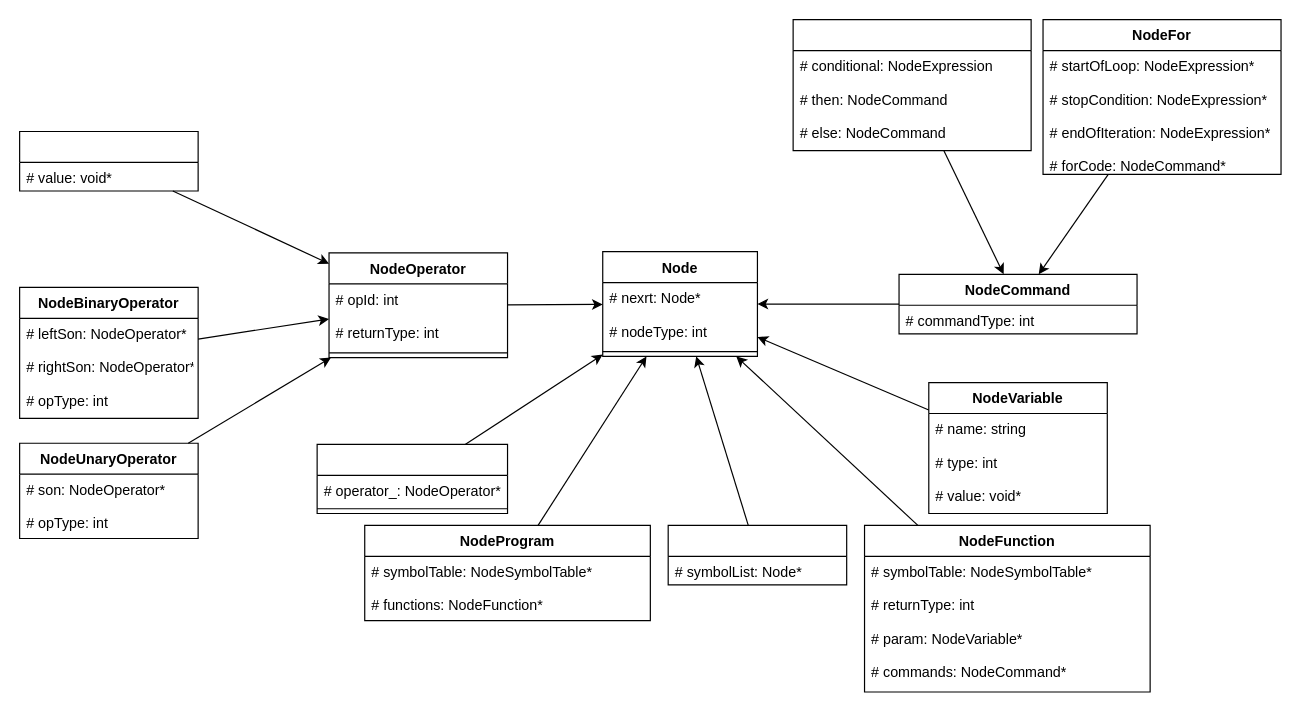
The diagram is 1301 pixels wide and 712 high, and some of its shapes have lost their labels. The box of each missing label's shape, as (x1, y1, x2, y2) in pixels:
NodeExpreesion: (316, 443, 508, 513)
NodeIf: (792, 18, 1031, 151)
NodeSymbolTable: (667, 524, 847, 585)
NodeValueOperator: (18, 130, 198, 191)
